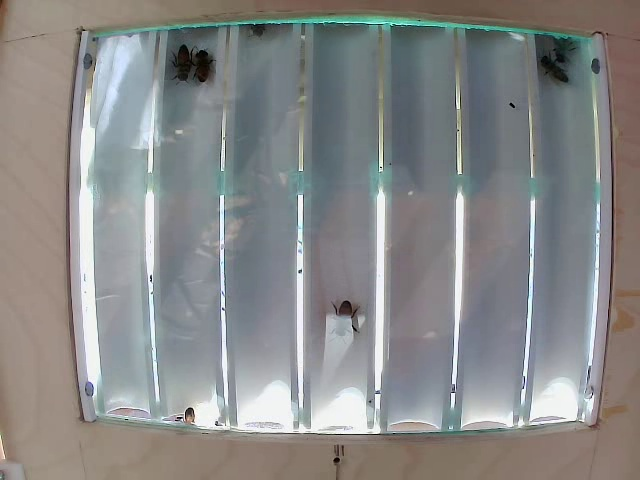bee: (322, 298, 363, 342), (539, 49, 572, 88), (187, 47, 216, 87), (169, 46, 201, 81)
